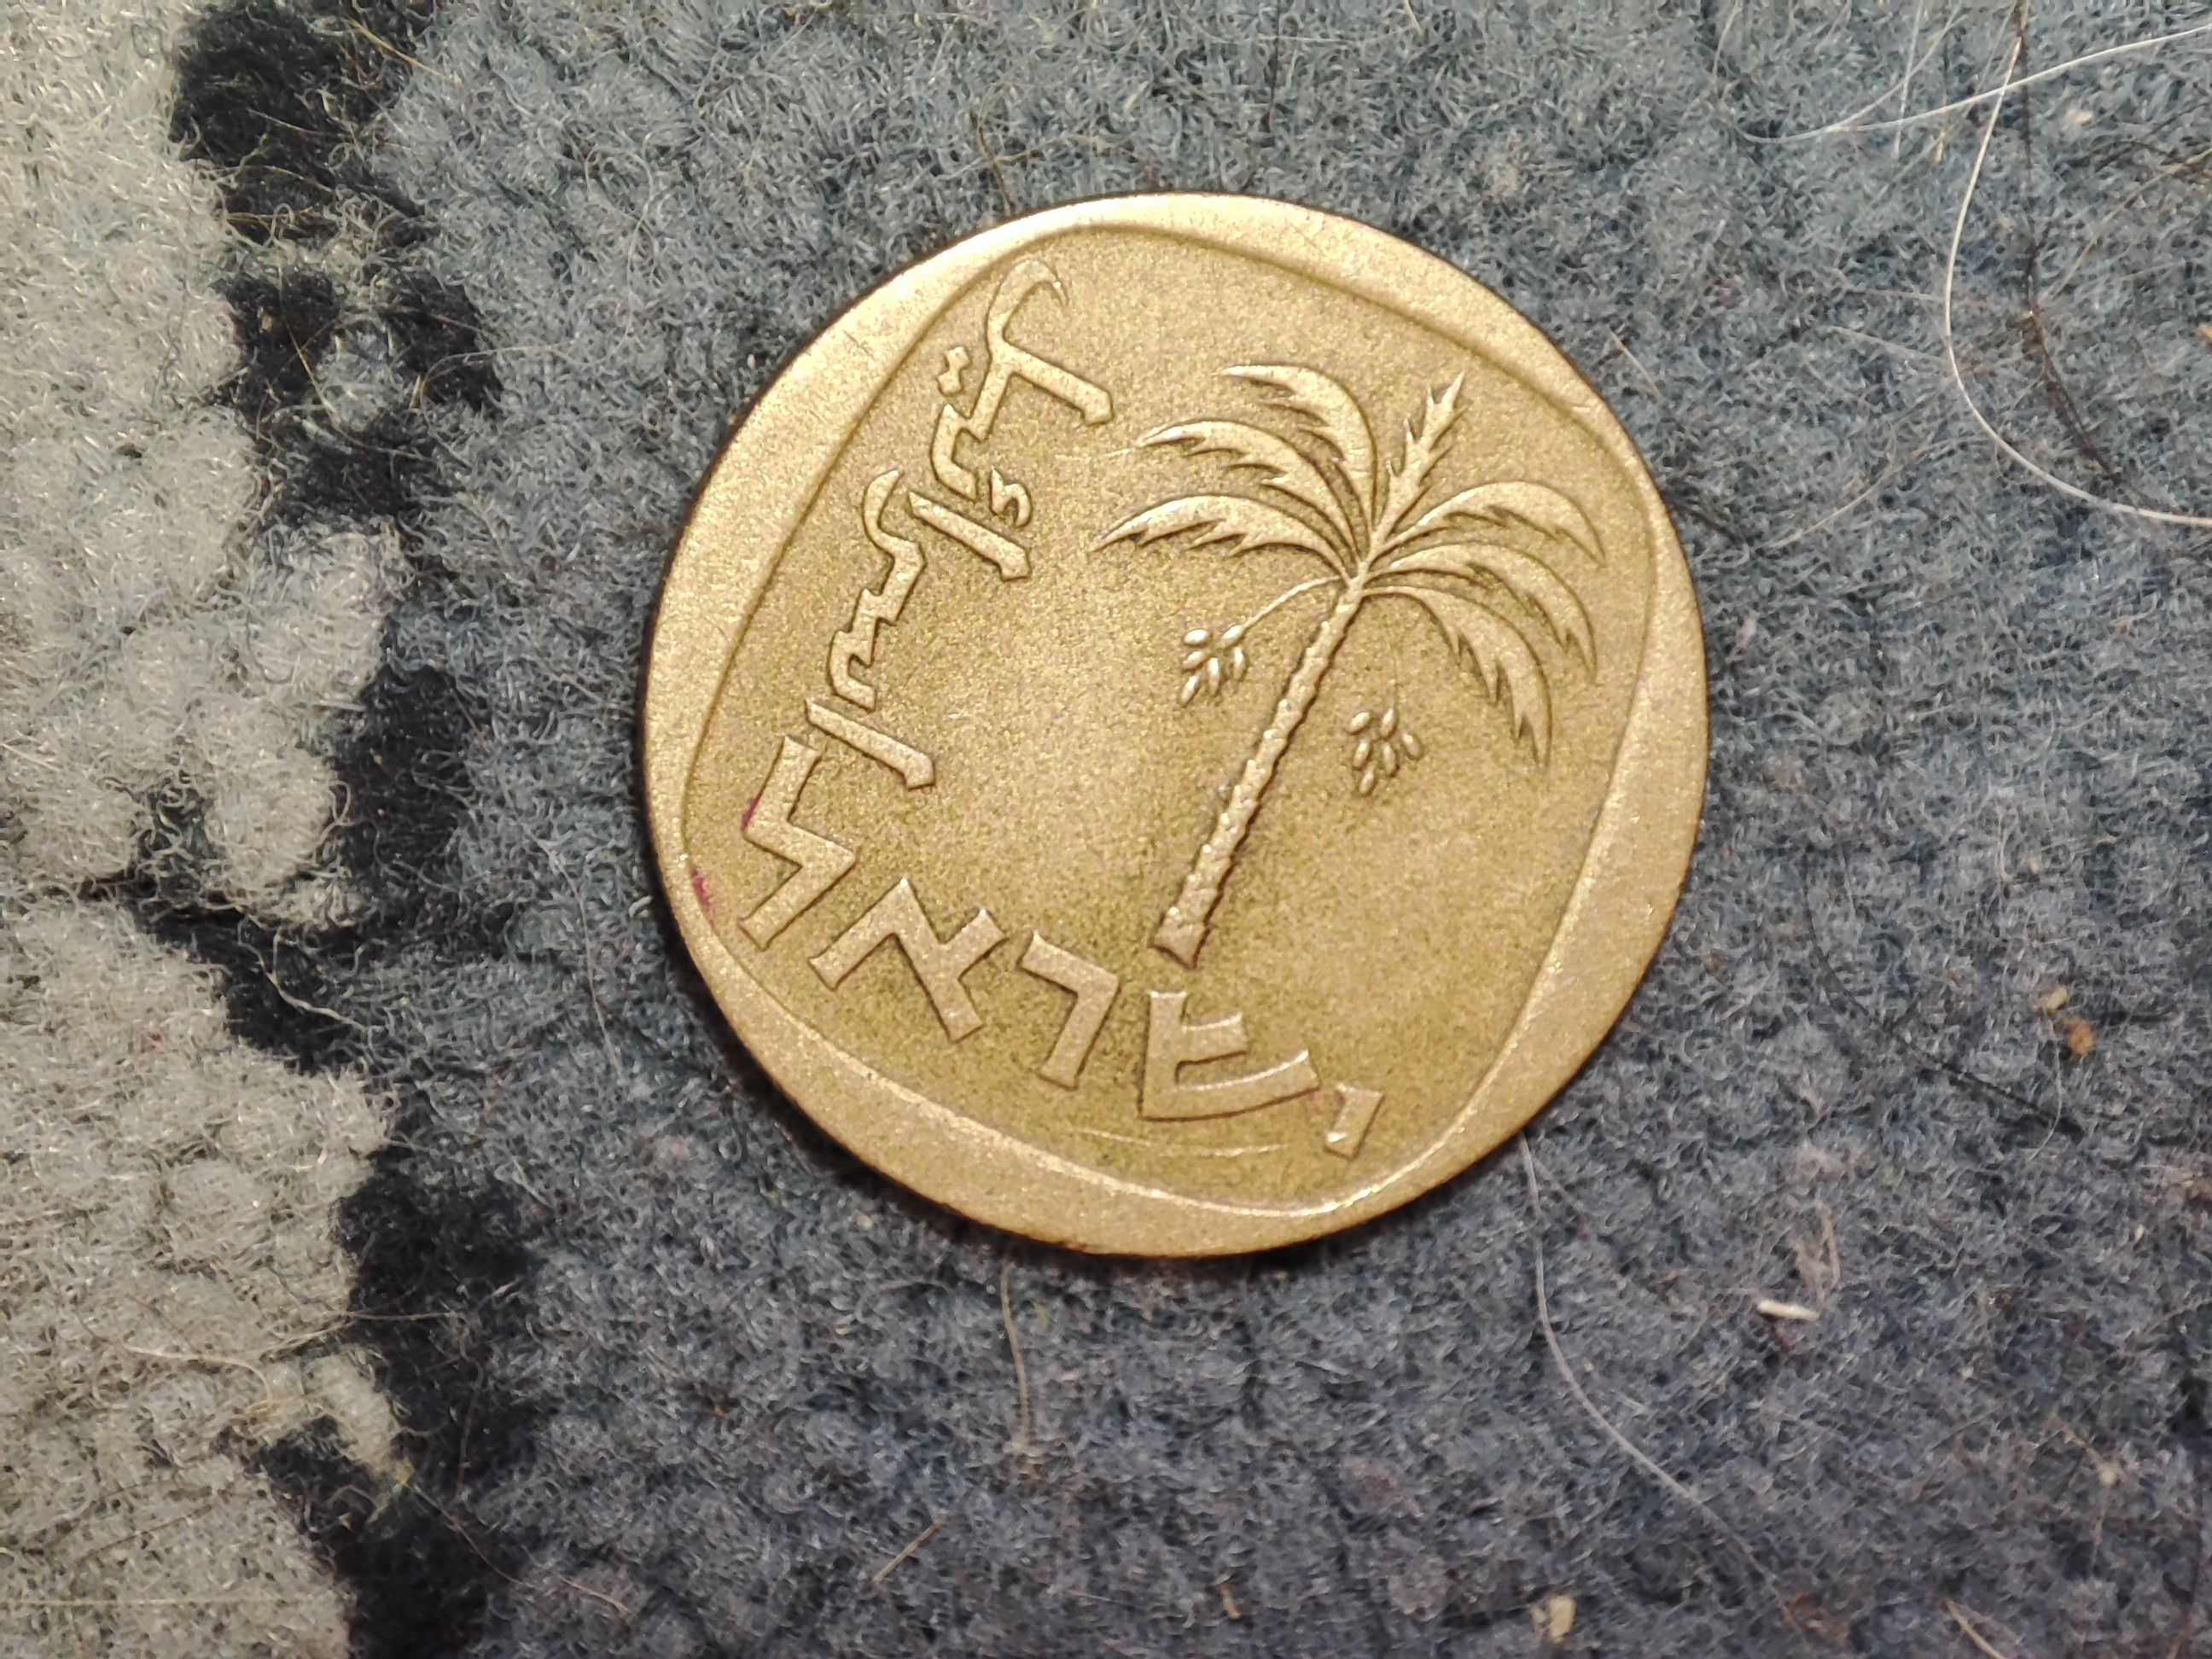10 old agora brown: (622, 181, 1721, 1284)
